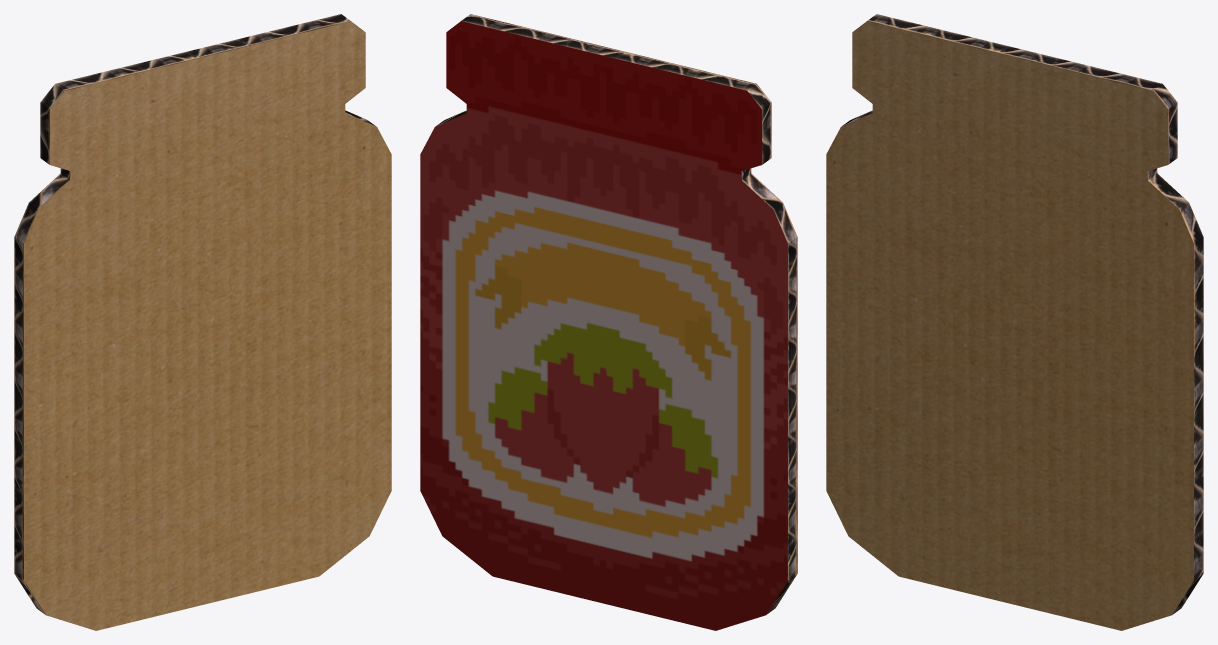
The model's file is MERMELADA.glb.
3 views of the same model, side by side, from view 1: azimuth 30°, elevation 25°; view 2: azimuth 150°, elevation 25°; view 3: azimuth 330°, elevation 25° (orthographic).
Parts seen in each view (by area): view 1: MERMELADA; view 2: MERMELADA; view 3: MERMELADA.
Part boxes in pixels (<box>): MERMELADA: <box>14,14,391,630</box>; MERMELADA: <box>420,14,797,630</box>; MERMELADA: <box>826,14,1203,630</box>.
Size of the model in its own units: 2.22 by 3.16 by 0.0999.
Materials: 1 (1 with a texture image).
